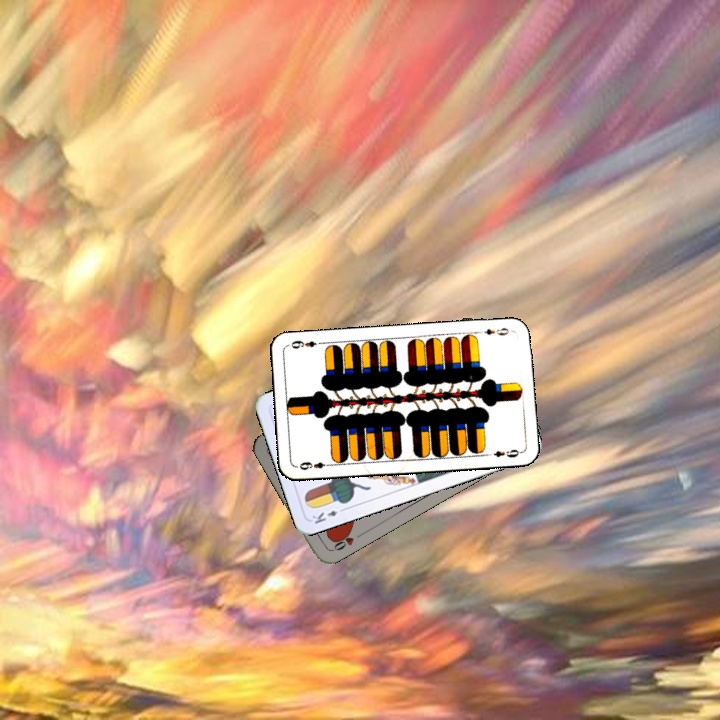E9: (295, 457, 334, 473), (480, 324, 514, 338)
EK: (308, 504, 348, 527)
HO: (327, 526, 365, 554)
